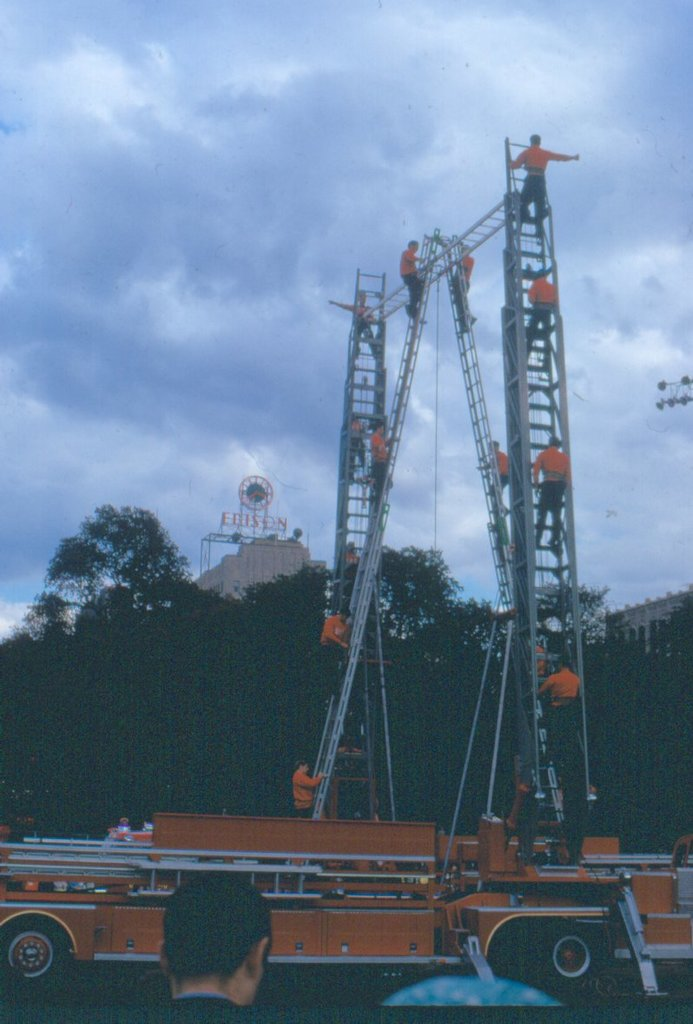person: (531, 431, 571, 550)
